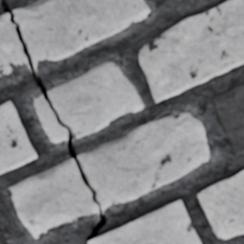brick: (138, 0, 243, 103), (87, 200, 200, 243), (196, 170, 243, 239), (0, 102, 37, 174), (210, 84, 243, 155), (0, 229, 7, 243)
broken_brick: (77, 113, 208, 212), (13, 0, 149, 70), (48, 63, 143, 140), (8, 159, 98, 238), (0, 15, 29, 77), (34, 95, 67, 144)
crack: (0, 0, 106, 241)
